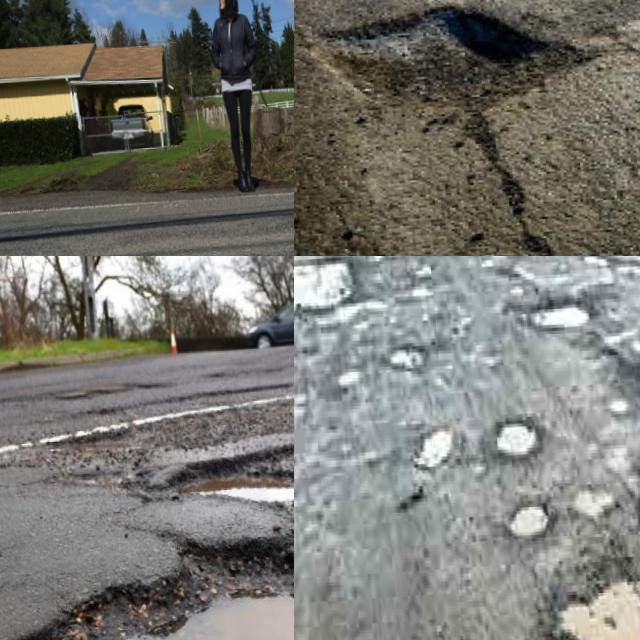Potholes: (294, 0, 623, 160), (0, 494, 294, 640), (107, 405, 294, 582), (473, 403, 585, 590), (509, 524, 640, 640), (513, 277, 626, 370), (600, 321, 640, 510), (294, 256, 365, 350), (403, 400, 477, 488), (374, 326, 437, 408), (388, 256, 451, 318), (472, 256, 557, 293), (556, 256, 631, 284)
